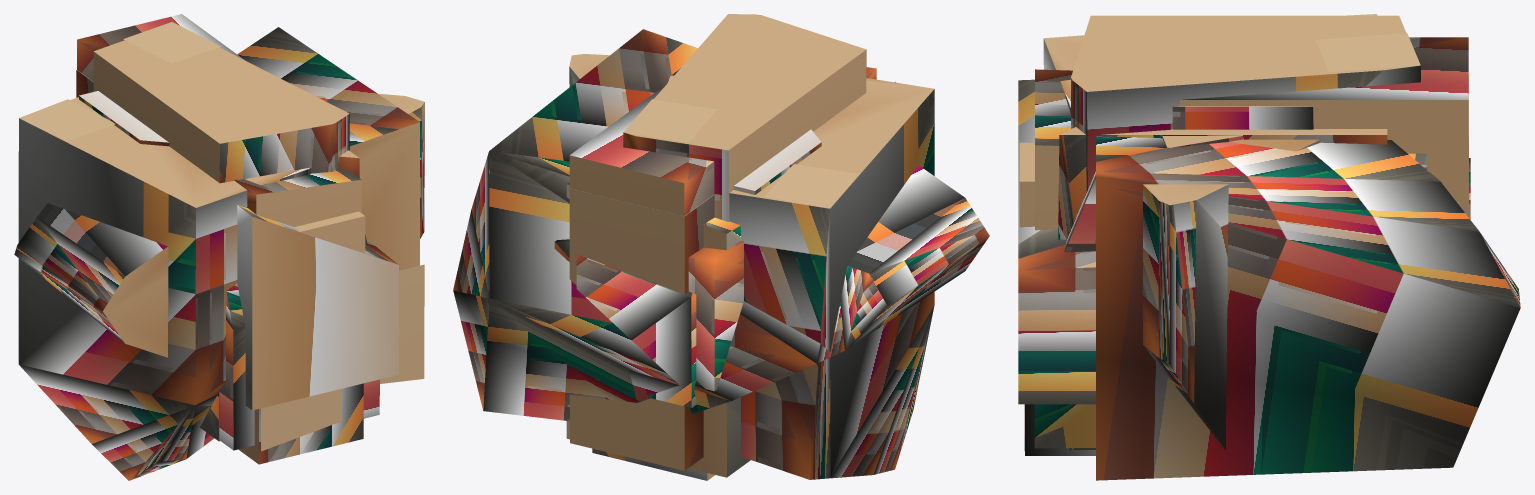
File: rootnode_002_chunks.glb
The picture shows the model from 3 angles, left to right: view 1: azimuth 30°, elevation 25°; view 2: azimuth 150°, elevation 25°; view 3: azimuth 270°, elevation 25°; orthographic projection. The views are drawn at different scales.
Visible parts, largest first — view 1: box_A.005_cell.012, box_A.005_cell.013, box_A.005_cell.011, box_A.005_cell.014, box_A.005_cell.018, box_A.005_cell.004, box_A.005_cell.015, box_A.005_cell.019, box_A.005_cell.007, box_A.005_cell.010, box_A.005_cell.003; view 2: box_A.005_cell.013, box_A.005_cell.012, box_A.005_cell.014, box_A.005_cell.005, box_A.005_cell.009, box_A.005_cell.019, box_A.005_cell.001, box_A.005_cell.003, box_A.005_cell.007, box_A.005_cell.002; view 3: box_A.005_cell.013, box_A.005_cell.014, box_A.005_cell.012, box_A.005_cell.011, box_A.005_cell.019, box_A.005_cell.007, box_A.005_cell.018, box_A.005_cell.004, box_A.005_cell.008, box_A.005_cell.010, box_A.005_cell.015, box_A.005_cell.016.
Boxes of the visible parts, left/top/right/bottom form: box_A.005_cell.012: left=18, top=93, right=424, bottom=480; box_A.005_cell.013: left=14, top=27, right=424, bottom=383; box_A.005_cell.011: left=237, top=205, right=398, bottom=410; box_A.005_cell.014: left=93, top=22, right=349, bottom=183; box_A.005_cell.018: left=234, top=169, right=361, bottom=451; box_A.005_cell.004: left=219, top=234, right=379, bottom=450; box_A.005_cell.015: left=238, top=383, right=363, bottom=464; box_A.005_cell.019: left=77, top=14, right=245, bottom=81; box_A.005_cell.007: left=79, top=91, right=359, bottom=177; box_A.005_cell.010: left=294, top=211, right=365, bottom=253; box_A.005_cell.003: left=199, top=392, right=219, bottom=441; box_A.005_cell.013: left=453, top=29, right=989, bottom=421; box_A.005_cell.012: left=569, top=54, right=934, bottom=479; box_A.005_cell.014: left=623, top=14, right=866, bottom=221; box_A.005_cell.005: left=570, top=188, right=714, bottom=470; box_A.005_cell.009: left=576, top=254, right=697, bottom=407; box_A.005_cell.019: left=569, top=84, right=714, bottom=409; box_A.005_cell.001: left=554, top=239, right=743, bottom=391; box_A.005_cell.003: left=566, top=182, right=750, bottom=477; box_A.005_cell.007: left=733, top=129, right=821, bottom=194; box_A.005_cell.002: left=592, top=448, right=714, bottom=480; box_A.005_cell.013: left=1096, top=136, right=1520, bottom=480; box_A.005_cell.014: left=1071, top=15, right=1420, bottom=191; box_A.005_cell.012: left=1043, top=14, right=1377, bottom=450; box_A.005_cell.011: left=1018, top=79, right=1095, bottom=404; box_A.005_cell.019: left=1180, top=37, right=1468, bottom=216; box_A.005_cell.007: left=1058, top=127, right=1387, bottom=239; box_A.005_cell.018: left=1035, top=69, right=1072, bottom=230; box_A.005_cell.004: left=1034, top=171, right=1095, bottom=448; box_A.005_cell.008: left=1172, top=106, right=1313, bottom=129; box_A.005_cell.010: left=1019, top=142, right=1034, bottom=227; box_A.005_cell.015: left=1024, top=404, right=1095, bottom=455; box_A.005_cell.016: left=1162, top=136, right=1242, bottom=147.
Size of the model in its own units: 0.1385 by 0.1309 by 0.1402.
Materials: 1 (1 with a texture image).
